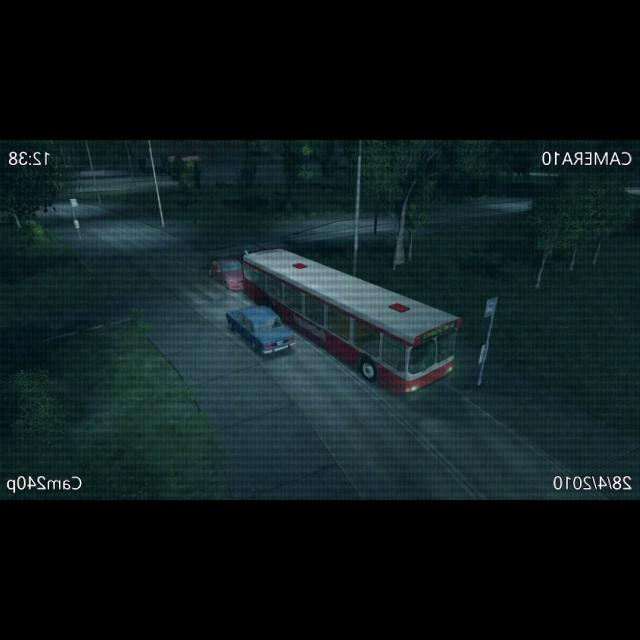accident: (203, 250, 290, 296)
